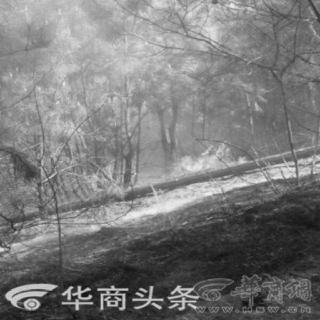Fire: (170, 142, 248, 180)
Smoke: (1, 1, 255, 137)
